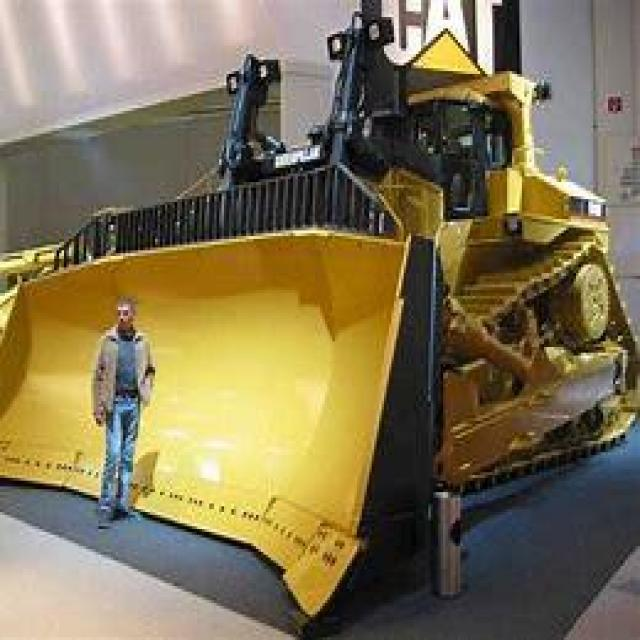Bulldozer: (5, 8, 637, 606)
